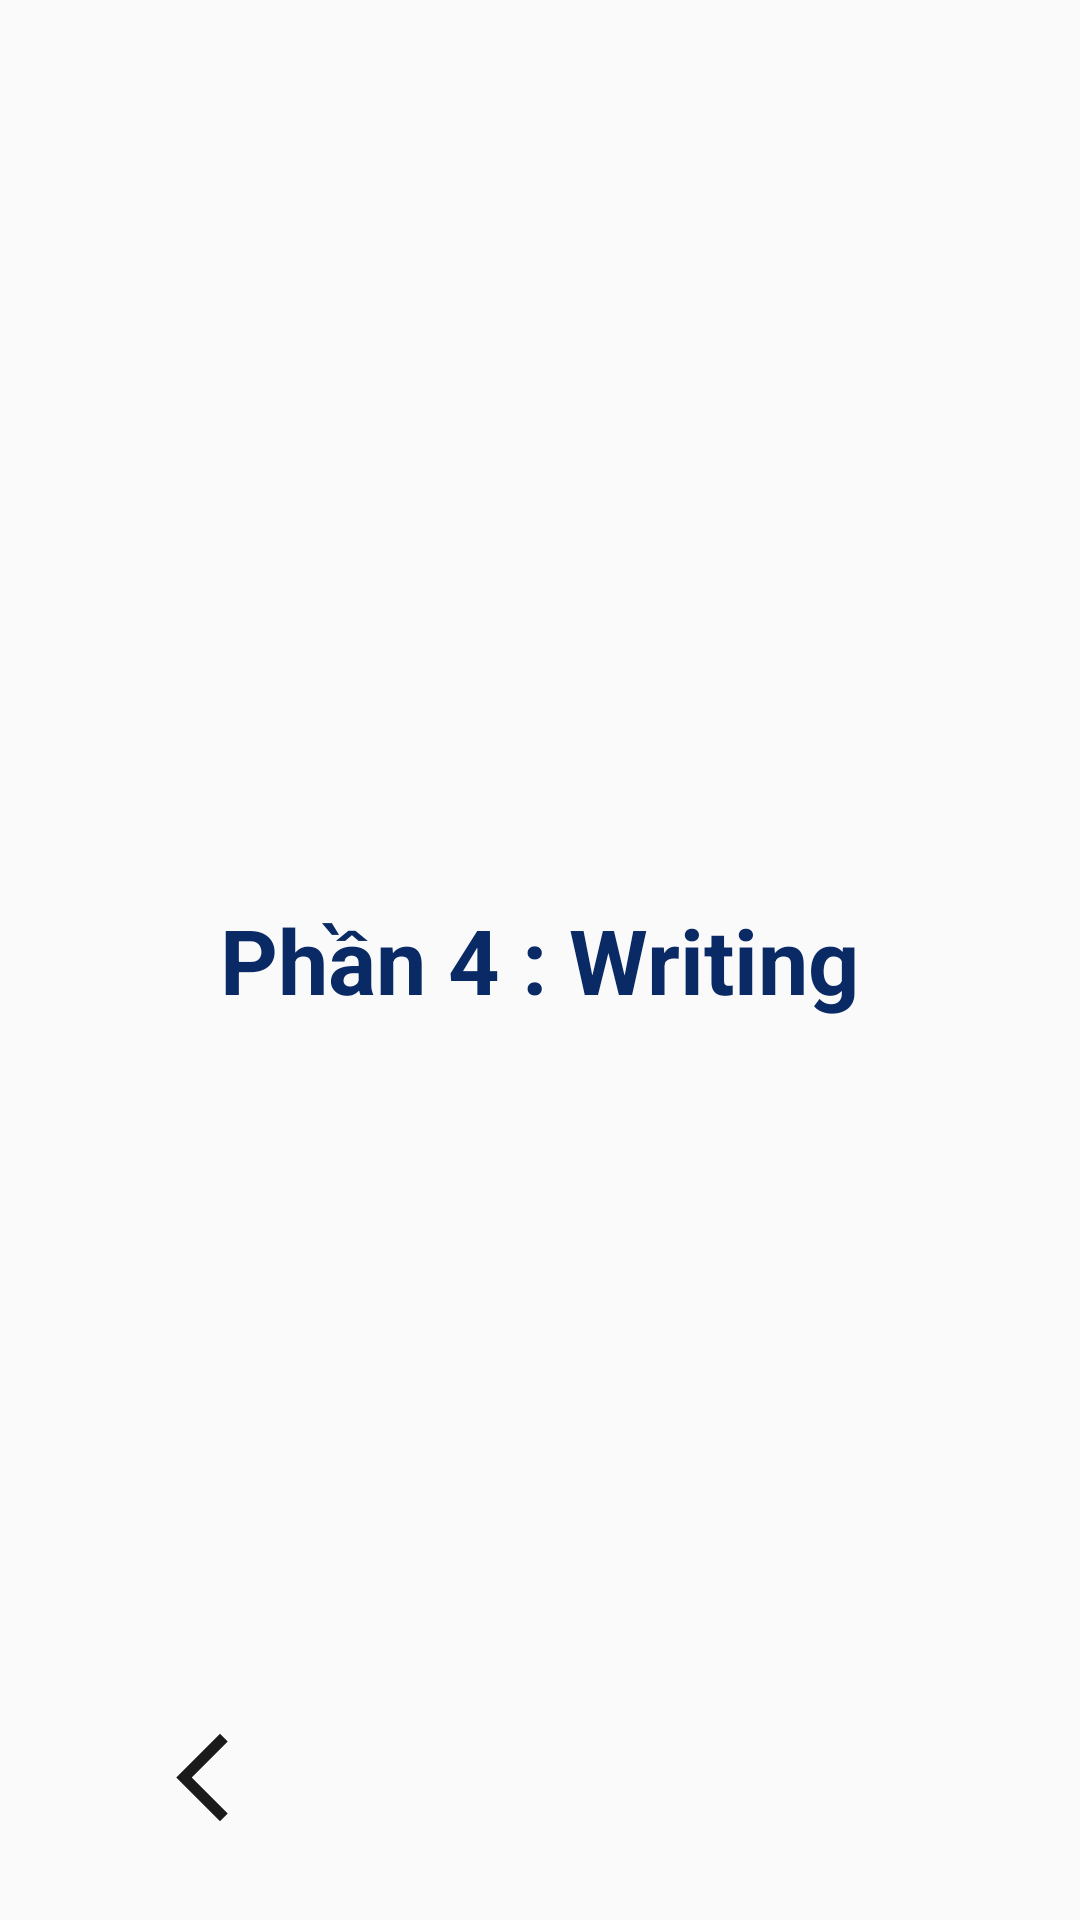

Icons on this 1080px×1920px Android screen, each with the point to tap as (x,y):
back: (202,1777)
